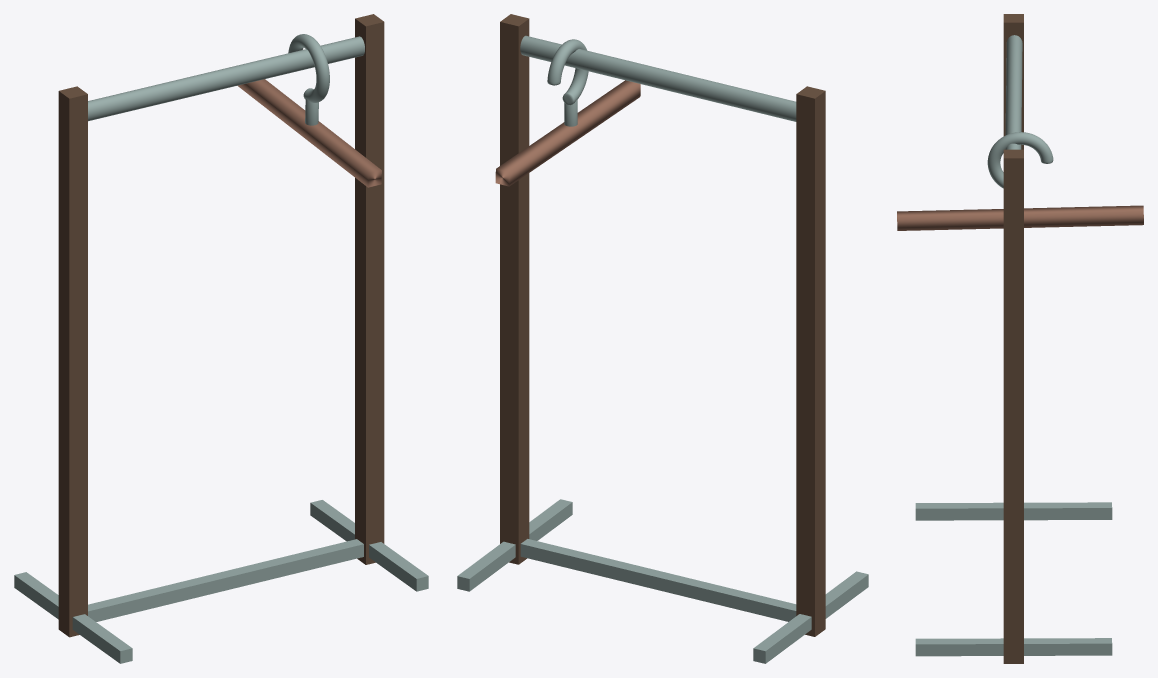
Rendered from no lab coatFINAL.fbx.
3 views of the same model, side by side, from view 1: azimuth 30°, elevation 25°; view 2: azimuth 150°, elevation 25°; view 3: azimuth 270°, elevation 25° (orthographic). The views are drawn at different scales.
Visible parts, largest first — view 1: Cube.003, Cube.004, Cube, Cylinder, Cube.005, Cube.001, Cube.002, Torus; view 2: Cube.003, Cube.004, Cube, Cylinder, Cube.005, Cube.001, Cube.002, Torus; view 3: Cube.004, Cube.005, Cube.002, Cube.001, Cylinder, Torus, Cube.003.
Part boxes in pixels (bbox=[...]): Cube.003: bbox=[58, 86, 87, 637]; Cube.004: bbox=[355, 14, 384, 564]; Cube: bbox=[88, 539, 363, 621]; Cylinder: bbox=[88, 36, 364, 121]; Cube.005: bbox=[237, 79, 381, 187]; Cube.001: bbox=[14, 572, 132, 663]; Cube.002: bbox=[310, 500, 428, 591]; Torus: bbox=[288, 34, 329, 102]; Cube.003: bbox=[796, 86, 825, 636]; Cube.004: bbox=[500, 14, 529, 564]; Cube: bbox=[520, 539, 796, 621]; Cylinder: bbox=[520, 35, 796, 121]; Cube.005: bbox=[495, 80, 640, 186]; Cube.001: bbox=[753, 571, 868, 663]; Cube.002: bbox=[457, 499, 572, 591]; Torus: bbox=[547, 39, 588, 105]; Cube.004: bbox=[1003, 149, 1023, 663]; Cube.005: bbox=[897, 205, 1143, 230]; Cube.002: bbox=[915, 638, 1112, 656]; Cube.001: bbox=[915, 502, 1112, 520]; Cylinder: bbox=[1005, 35, 1022, 149]; Torus: bbox=[987, 132, 1053, 188]; Cube.003: bbox=[1003, 14, 1023, 149].
Size of the model in its own units: 264 by 431 by 191.
